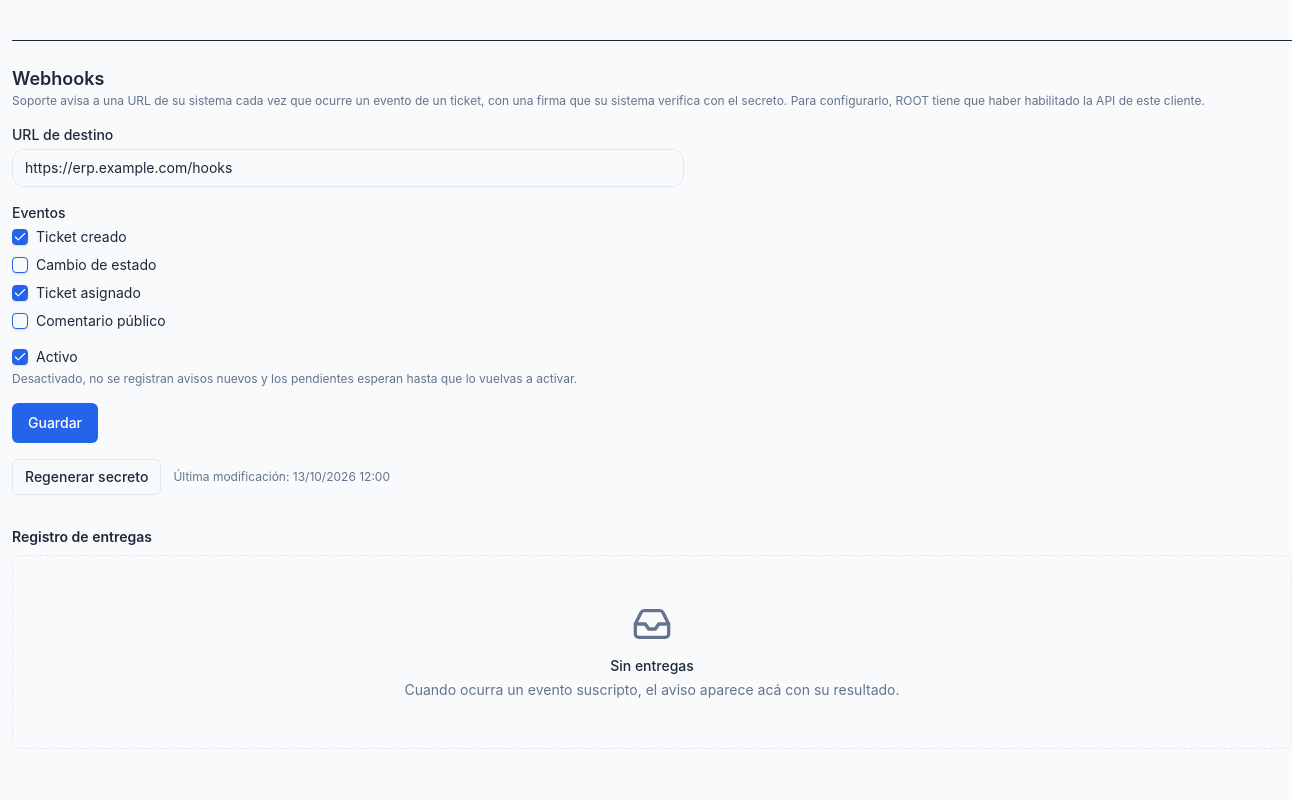
Scenario: WebhookSection › un 422 WEBHOOK_DESTINO_NO_ADMITIDO se muestra en el formulario
The width and height of the screenshot is (1292, 800).
What coordinates should you click on to do the following:
click the button "Guardar"
I would click on:
 (55, 423)
Its box is [12,403,98,443].
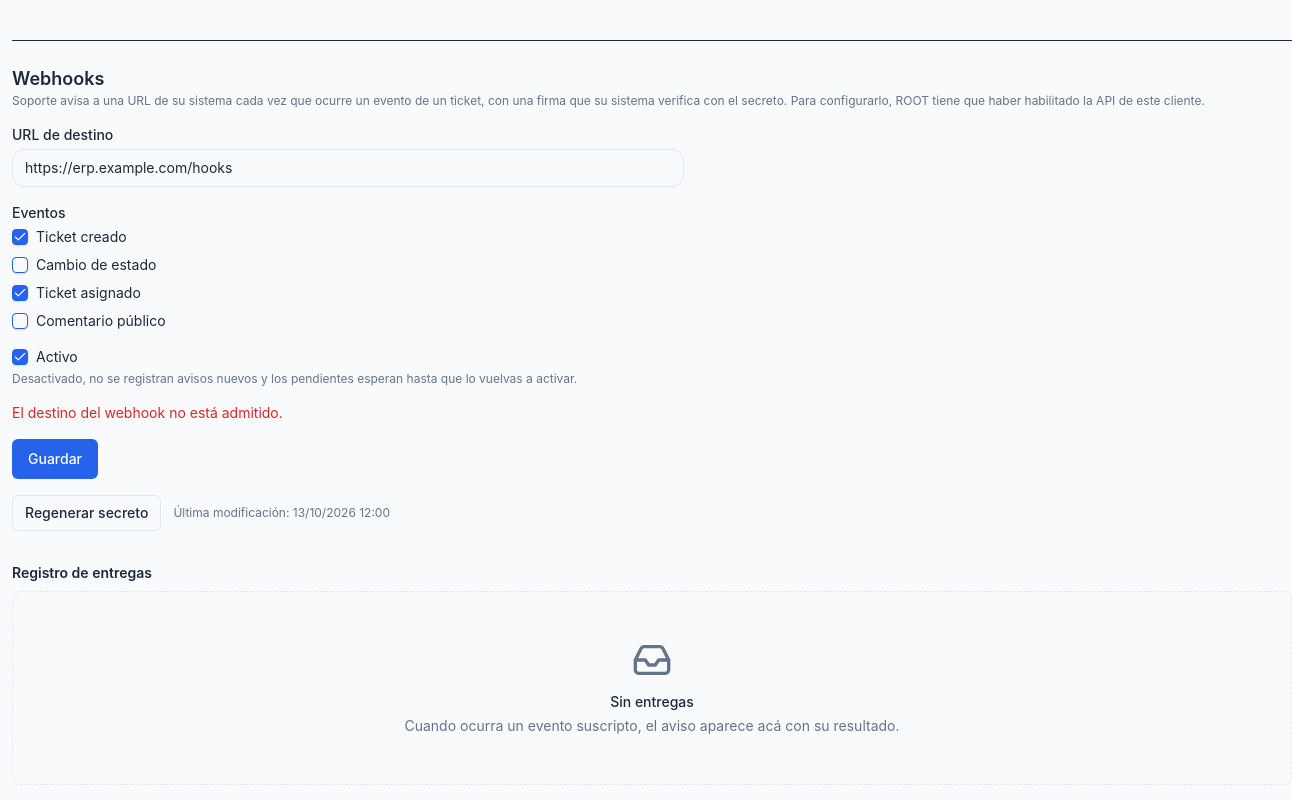
Expected: the message reads "El destino del webhook no está admitido.", [12,404,283,421]
